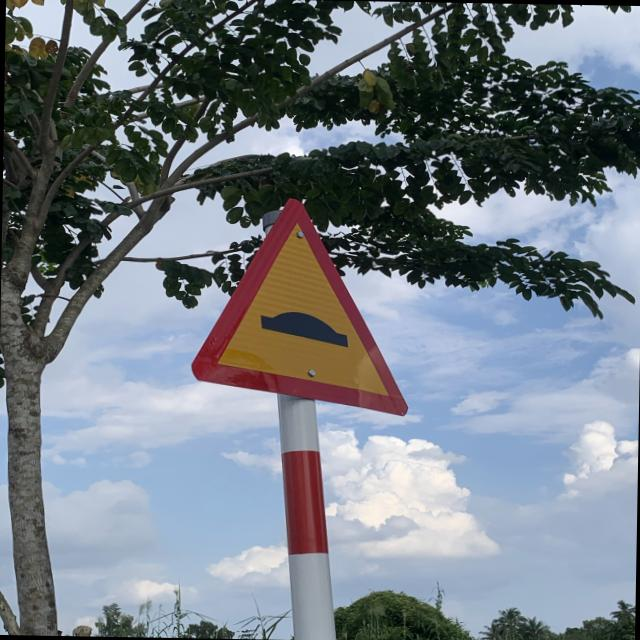Duong_Cong_Ben_Phai: (187, 195, 411, 414)
